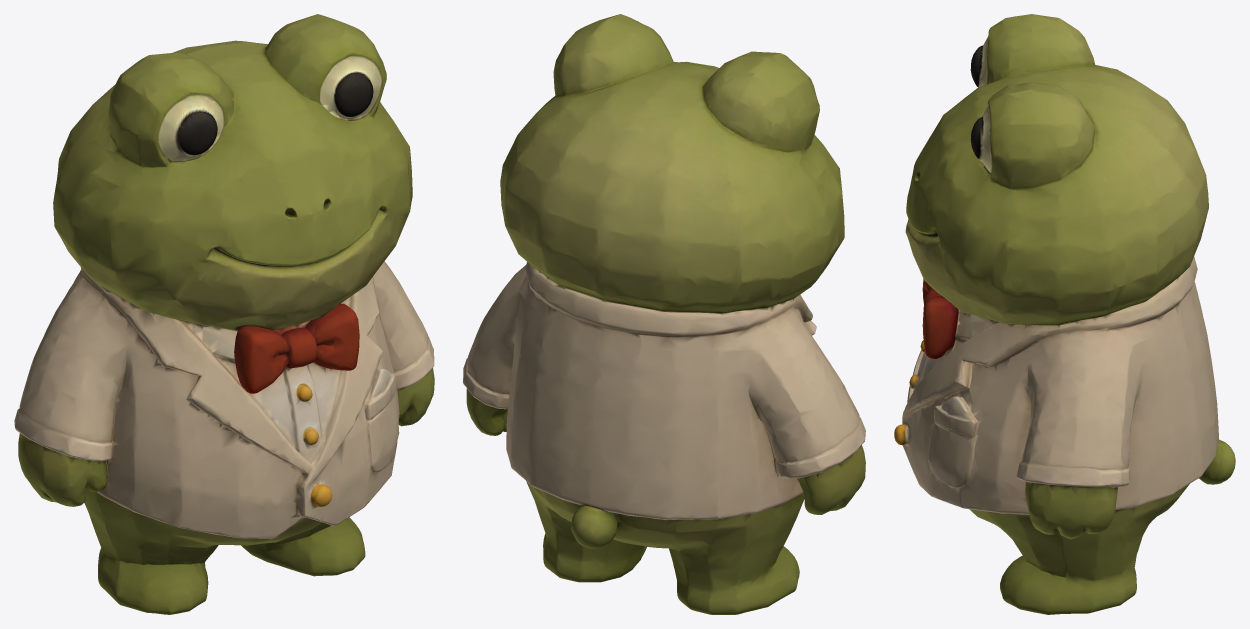
The model's file is frog-crooner-tripo.glb.
3 views of the same model, side by side, from view 1: azimuth 30°, elevation 25°; view 2: azimuth 150°, elevation 25°; view 3: azimuth 270°, elevation 25° (orthographic). The views are drawn at different scales.
Parts seen in each view (by area): view 1: tripo_node_5dfe9c99-2200-4508-8fe3-5d0e3de72ed6; view 2: tripo_node_5dfe9c99-2200-4508-8fe3-5d0e3de72ed6; view 3: tripo_node_5dfe9c99-2200-4508-8fe3-5d0e3de72ed6.
Boxes of the visible parts, <box> form: tripo_node_5dfe9c99-2200-4508-8fe3-5d0e3de72ed6: <box>14,14,434,614</box>; tripo_node_5dfe9c99-2200-4508-8fe3-5d0e3de72ed6: <box>463,14,865,614</box>; tripo_node_5dfe9c99-2200-4508-8fe3-5d0e3de72ed6: <box>894,14,1235,614</box>.
Size of the model in its own units: 0.7642 by 1 by 0.6065.
Materials: 1 (1 with a texture image).
